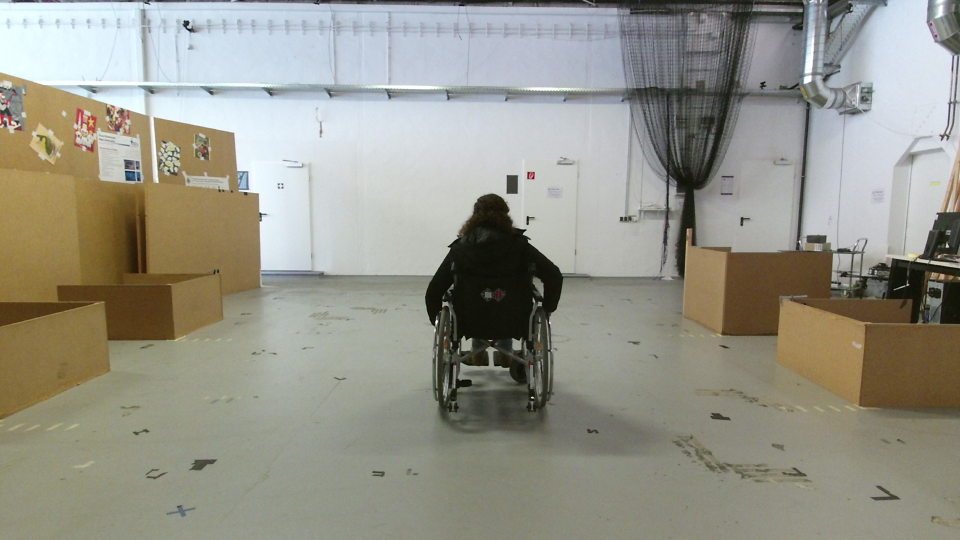wheelchair: (420, 180, 573, 428)
